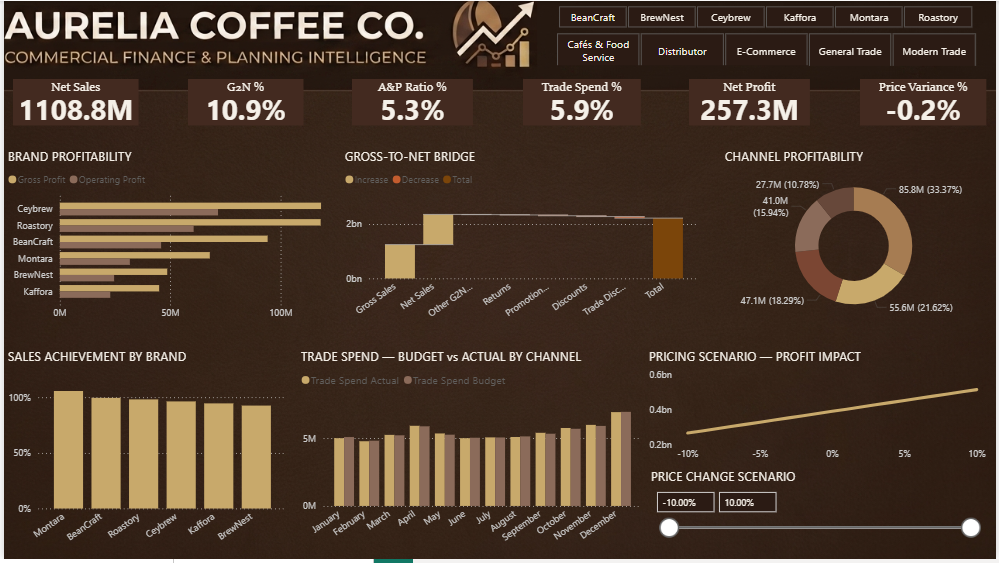

The page's visual inventory and layout, read from the dashboard file:
{"tool":"powerbi","page":{"name":"Brand & Channel Profitability","canvas":[1280,720],"ordinal":1},"visuals":[{"type":"slicer","fields":{"Values":["Financial Data.Brand"]},"box":[690.2,0,582.5,35.4],"z":0,"group":"g2"},{"type":"card","title":"Net Sales","fields":{"Values":["Financial Data.Net Sales"]},"box":[11.1,101.1,162.1,59.6],"z":0},{"type":"lineChart","title":"PRICING SCENARIO — PROFIT IMPACT","fields":{"Y":["Financial Data.Scenario Operating Profit"],"Category":["Price Change %.Price Change %"]},"box":[827.7,447.9,445,155.2],"z":0,"group":"g1"},{"type":"slicer","fields":{"Values":["Financial Data.Channel"]},"box":[687.4,35.4,589.6,48.2],"z":1000,"group":"g2"},{"type":"card","title":"G2N %","fields":{"Values":["Financial Data.G2N %"]},"box":[236.9,100.6,148.8,59.5],"z":1000},{"type":"slicer","title":"PRICE CHANGE SCENARIO","fields":{"Values":["Price Change %.Price Change %"]},"box":[830.8,603.1,438.9,111.3],"z":1000,"group":"g1"},{"type":"card","title":"A&P Ratio %","fields":{"Values":["Financial Data.A&P Ratio %"]},"box":[449.4,100.6,155.9,59.5],"z":2000},{"type":"card","title":"Trade Spend %","fields":{"Values":["Financial Data.Trade Spend %"]},"box":[669.1,100.6,151.7,59.5],"z":3000},{"type":"card","title":"Net Profit","fields":{"Values":["Financial Data.Operating Profit"]},"box":[884.5,100.6,155.9,59.5],"z":4000},{"type":"card","title":"Price Variance %","fields":{"Values":["Financial Data.Price Variance %"]},"box":[1104.1,100.6,163,59.5],"z":5000},{"type":"clusteredBarChart","title":"BRAND PROFITABILITY","fields":{"Category":["Financial Data.Brand"],"Y":["Financial Data.Gross Profit","Financial Data.Operating Profit"]},"box":[0,189.8,435,231.3],"z":6000},{"type":"waterfallChart","title":"GROSS-TO-NET BRIDGE","fields":{"Category":["G2N Waterfall.G2N Category"],"Y":["Financial Data.G2N Waterfall Value"]},"box":[435,189.8,466.8,231.3],"z":7000},{"type":"clusteredColumnChart","title":"TRADE SPEND — BUDGET vs ACTUAL BY CHANNEL","fields":{"Category":["Financial Data.Month"],"Y":["Financial Data.Trade Spend Actual","Financial Data.Trade Spend Budget"]},"box":[378.4,447.9,449.3,272.1],"z":8000},{"type":"clusteredColumnChart","title":"SALES ACHIEVEMENT BY BRAND","fields":{"Category":["Financial Data.Brand"],"Y":["Financial Data.Sales Achievement %"]},"box":[0,447.9,369.9,272.1],"z":9000},{"type":"donutChart","title":"CHANNEL PROFITABILITY","fields":{"Category":["Financial Data.Channel"],"Y":["Financial Data.Operating Profit"]},"box":[925.4,189.8,342.2,231.3],"z":10000},{"type":"group","id":"g1","title":"Group 1","box":[827.7,447.9,445,266.5],"z":11000},{"type":"group","id":"g2","title":"Group 1","box":[687.4,0,589.6,83.6],"z":12000}]}

Visuals, with their boxes in screenshot pixels (x1, y1, x2, y2), scaled from the page's 1280x720 canvas onto the 999x563 screenshot:
slicer - Financial Data.Brand: box(539, 0, 993, 28)
"Net Sales" card: box(9, 79, 135, 126)
"PRICING SCENARIO — PROFIT IMPACT" lineChart: box(646, 350, 993, 472)
slicer - Financial Data.Channel: box(536, 28, 997, 65)
"G2N %" card: box(185, 79, 301, 125)
"PRICE CHANGE SCENARIO" slicer: box(648, 472, 991, 559)
"A&P Ratio %" card: box(351, 79, 472, 125)
"Trade Spend %" card: box(522, 79, 641, 125)
"Net Profit" card: box(690, 79, 812, 125)
"Price Variance %" card: box(862, 79, 989, 125)
"BRAND PROFITABILITY" clusteredBarChart: box(0, 148, 340, 329)
"GROSS-TO-NET BRIDGE" waterfallChart: box(340, 148, 704, 329)
"TRADE SPEND — BUDGET vs ACTUAL BY CHANNEL" clusteredColumnChart: box(295, 350, 646, 562)
"SALES ACHIEVEMENT BY BRAND" clusteredColumnChart: box(0, 350, 289, 562)
"CHANNEL PROFITABILITY" donutChart: box(722, 148, 989, 329)
"Group 1" group: box(646, 350, 993, 559)
"Group 1" group: box(536, 0, 997, 65)
